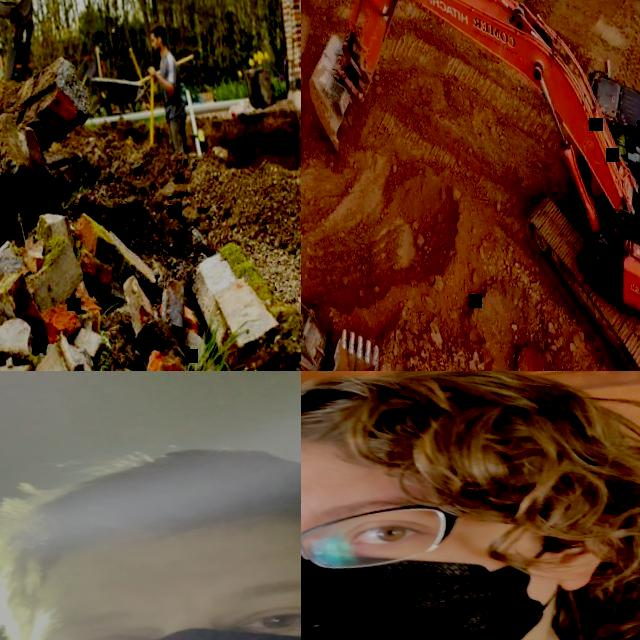machinery: (301, 0, 640, 371), (303, 325, 391, 371)
mask: (301, 514, 594, 640)
no_helmet: (0, 420, 301, 589), (301, 371, 609, 512), (150, 21, 166, 36)
no_mask: (151, 40, 159, 51)
no_vest: (156, 51, 188, 121)
person: (301, 371, 640, 640), (0, 399, 301, 640), (142, 20, 192, 161), (614, 126, 628, 161)
vest: (615, 135, 627, 156)
